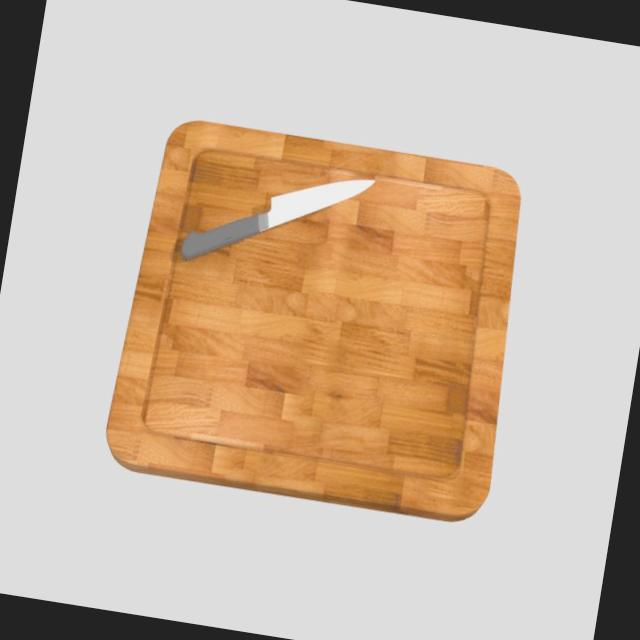knife: (180, 204, 262, 271)
